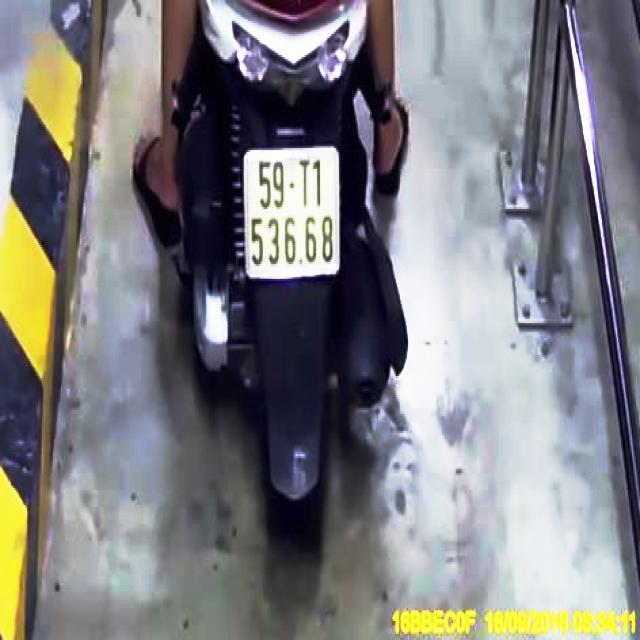license_plate: (244, 150, 341, 280)
